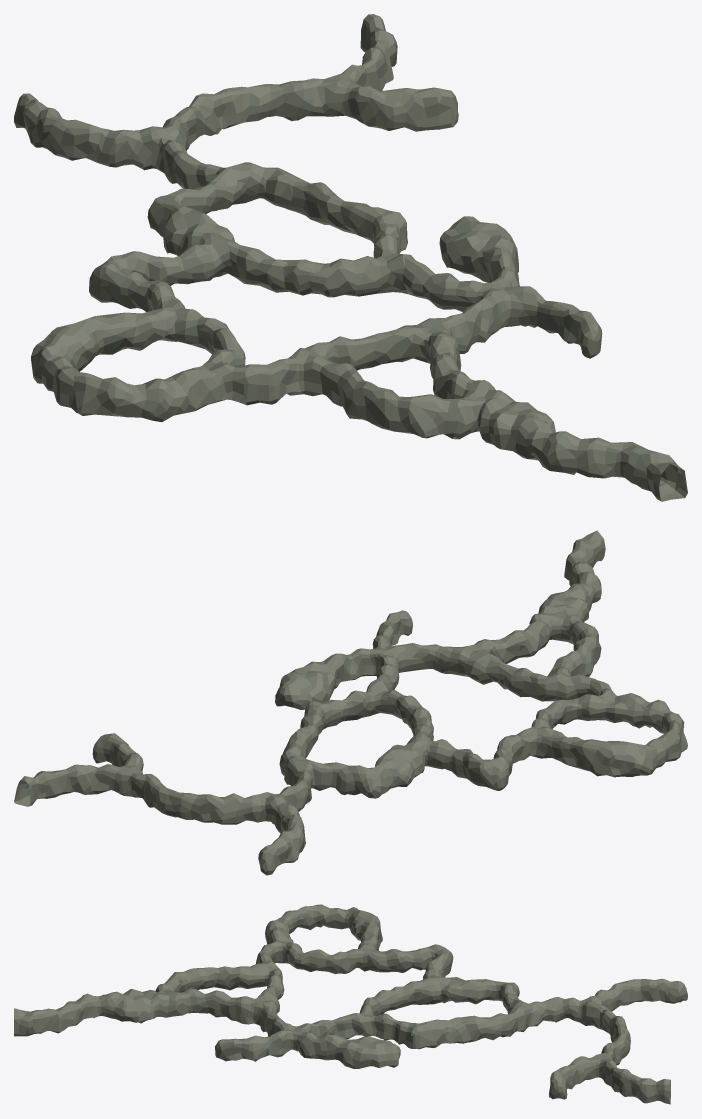
File: Jeskyne.fbx
3 renders of one model, top to bottom at view 1: azimuth 30°, elevation 25°; view 2: azimuth 150°, elevation 25°; view 3: azimuth 270°, elevation 25°, orthographic. The views are drawn at different scales.
Parts seen in each view (by area): view 1: jeskyně; view 2: jeskyně; view 3: jeskyně.
Boxes of the visible parts, <box> form: jeskyně: <box>14,14,687,501</box>; jeskyně: <box>14,530,687,875</box>; jeskyně: <box>14,904,687,1104</box>.
Size of the model in its own units: 9953 by 611 by 15528.
